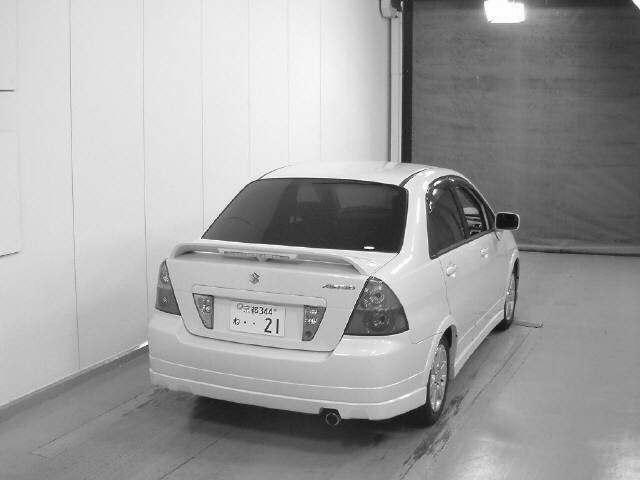car: (147, 161, 523, 427)
